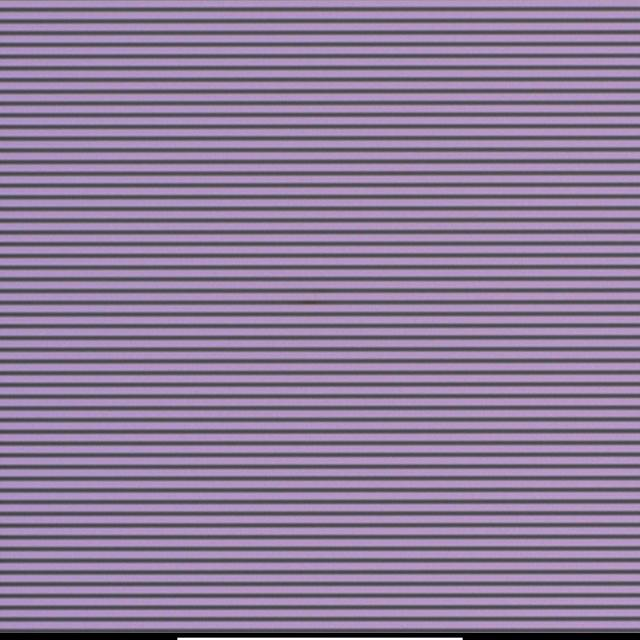nonvisual: (339, 287, 348, 295)
